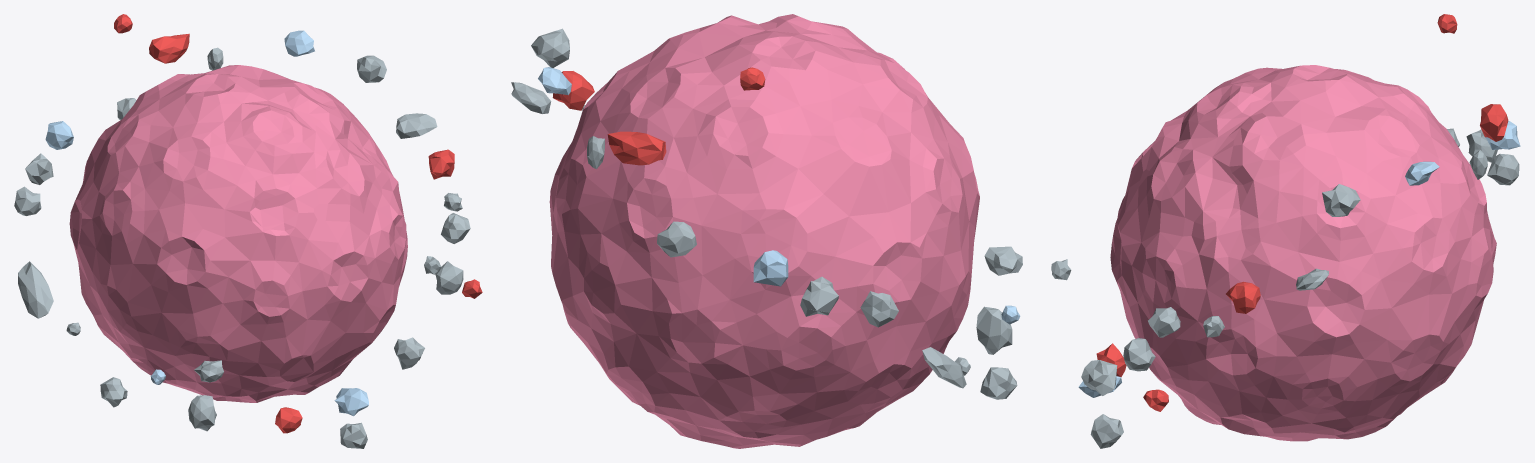
The model's file is Planet_35.glb.
3 views of the same model, side by side, from view 1: azimuth 30°, elevation 25°; view 2: azimuth 150°, elevation 25°; view 3: azimuth 270°, elevation 25° (orthographic). The views are drawn at different scales.
Parts seen in each view (by area): view 1: Planet_35; view 2: Planet_35; view 3: Planet_35.
Part boxes in pixels (x1,y1,x2,y2): Planet_35: (14,14,482,448); Planet_35: (511,14,1022,448); Planet_35: (1051,14,1520,448).
Bounding box in the file's own units: 25.91 × 22.44 × 24.65.
1 material, 1 textured.
